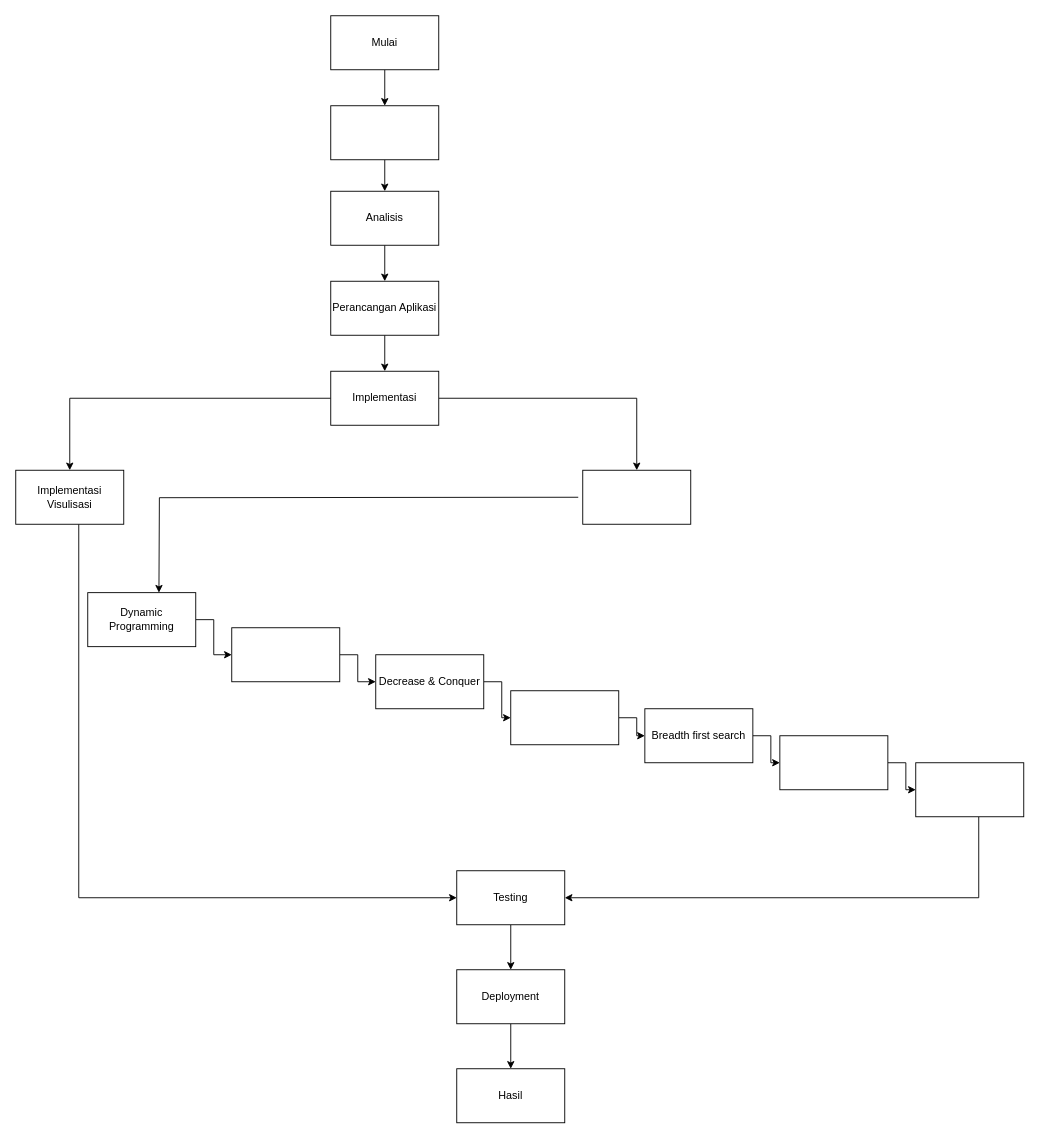
This 1040x1139 diagram has some shape labels left out. The centre of each missing label's shape, as x and y in pixels:
"Backtracking" goes at point (833, 762).
"Divide & Conquer" goes at point (285, 654).
"Greedy" goes at point (564, 717).
"Implementasi Algoritma" goes at point (636, 496).
"Pengumpulan data" goes at point (384, 132).
"Recursive" goes at point (969, 789).
